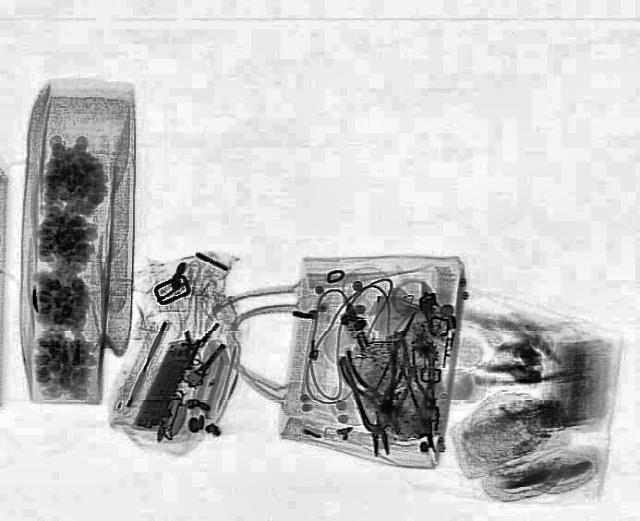Pliers: (334, 344, 422, 458)
